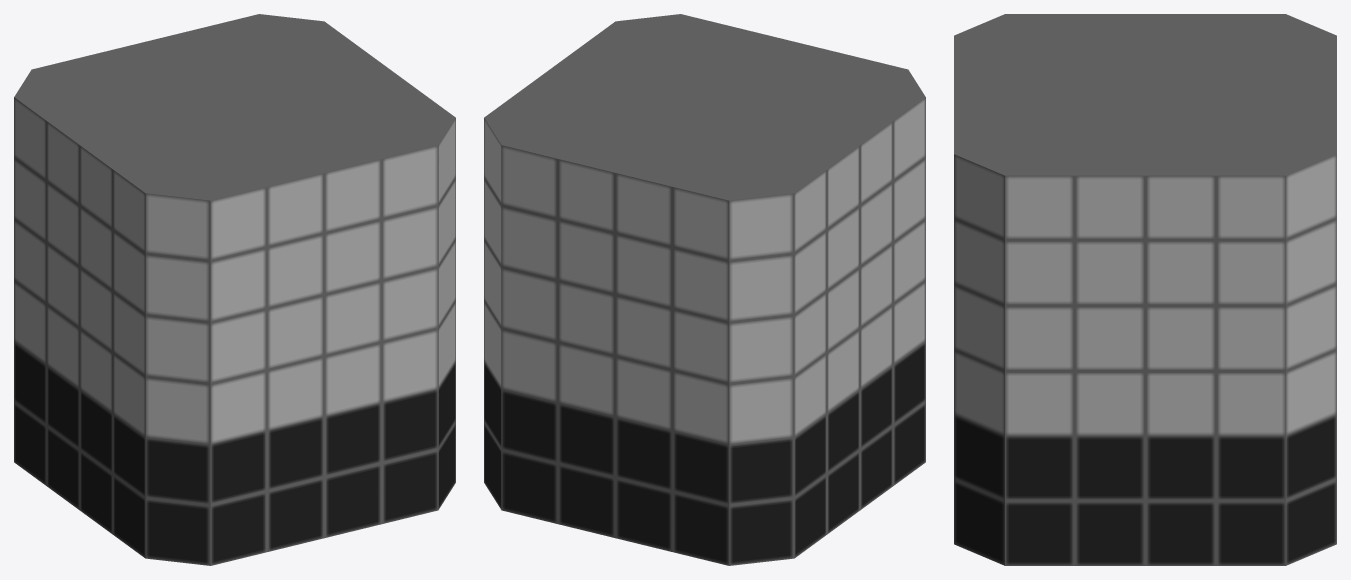
The model's file is SW_ENV_PillarTiledMid_02.fbx.
3 views of the same model, side by side, from view 1: azimuth 30°, elevation 25°; view 2: azimuth 150°, elevation 25°; view 3: azimuth 270°, elevation 25° (orthographic). The views are drawn at different scales.
Visible parts, largest first — view 1: SW_ENV_PillarTiledMid_02; view 2: SW_ENV_PillarTiledMid_02; view 3: SW_ENV_PillarTiledMid_02.
Part boxes in pixels (box(x1,y1,x2,y2)): SW_ENV_PillarTiledMid_02: box(14, 14, 455, 565); SW_ENV_PillarTiledMid_02: box(484, 14, 925, 565); SW_ENV_PillarTiledMid_02: box(954, 14, 1336, 565).
Bounding box in the file's own units: 80 × 90 × 80.
